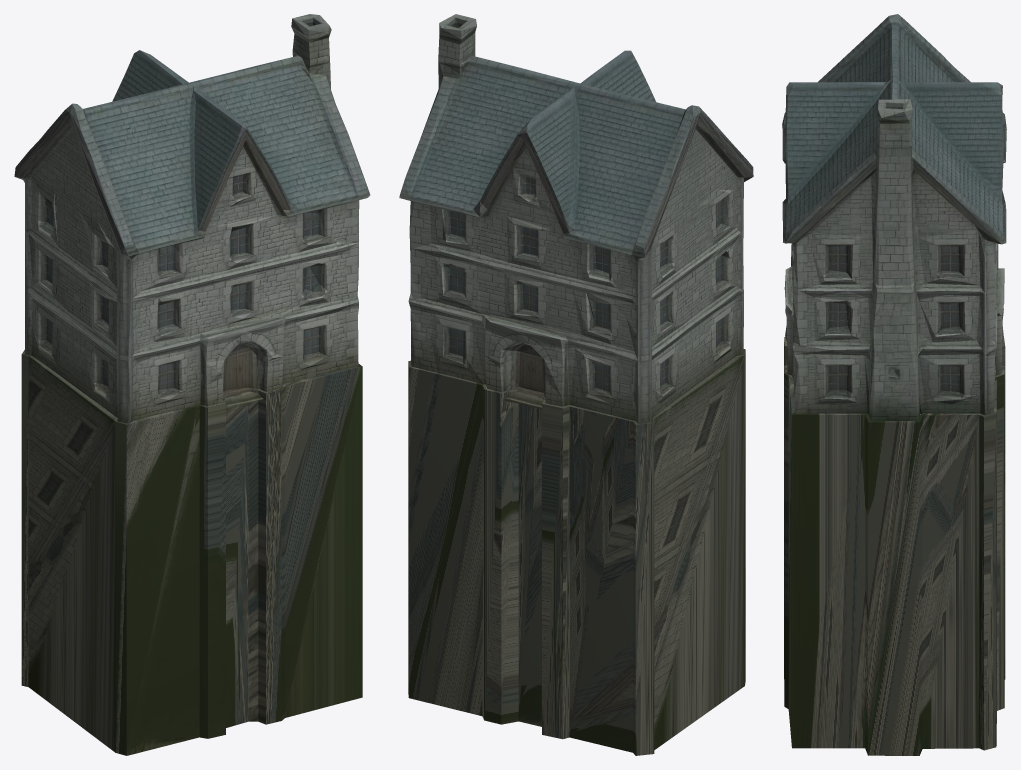
The model's file is townhouse_c.glb.
3 renders of one model, left to right at view 1: azimuth 30°, elevation 25°; view 2: azimuth 150°, elevation 25°; view 3: azimuth 270°, elevation 25°, orthographic.
Visible parts, largest first — view 1: townhouse_c_export; view 2: townhouse_c_export; view 3: townhouse_c_export.
Part boxes in pixels (x1,y1,x2,y2): townhouse_c_export: (14, 14, 370, 755); townhouse_c_export: (399, 14, 753, 755); townhouse_c_export: (782, 14, 1006, 755).
Size of the model in its own units: 15 by 35.33 by 11.18.
2 materials, 2 textured.
